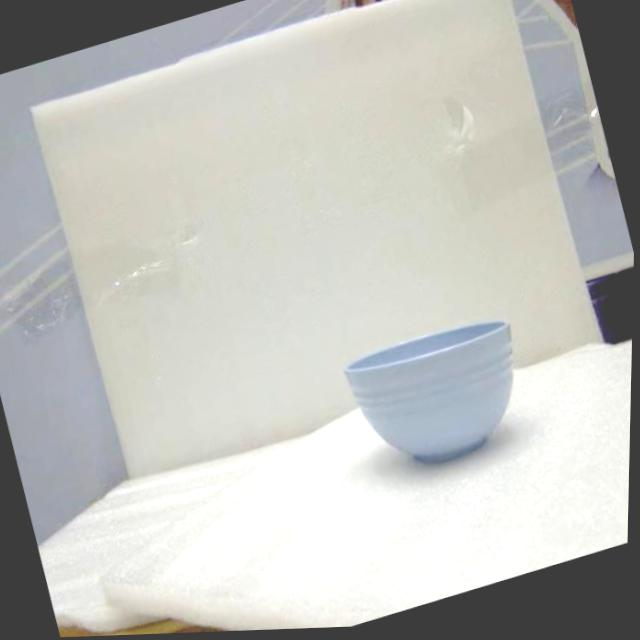Bowl: (344, 321, 512, 462)
